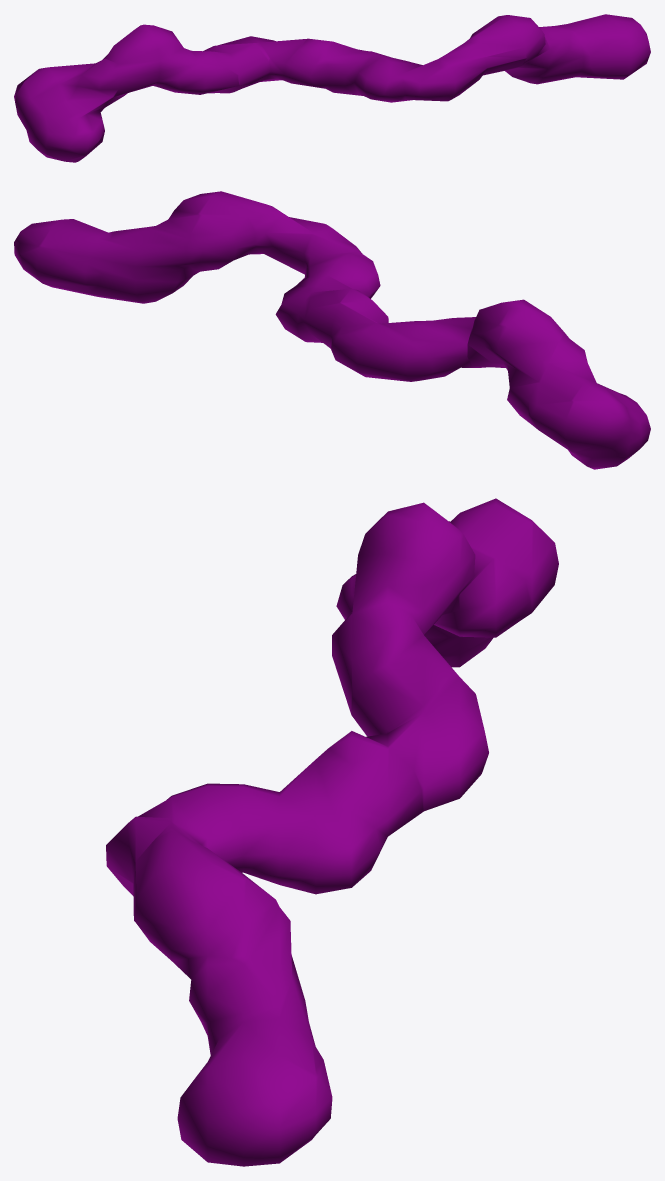
The model's file is Vesicle_64AAAligned16.fbx.
The picture shows the model from 3 angles, top to bottom: view 1: azimuth 30°, elevation 25°; view 2: azimuth 150°, elevation 25°; view 3: azimuth 270°, elevation 25°; orthographic projection. The views are drawn at different scales.
Visible parts, largest first — view 1: vesicle_MeshVes64Mesh; view 2: vesicle_MeshVes64Mesh; view 3: vesicle_MeshVes64Mesh.
Part boxes in pixels (bbox=[...]): vesicle_MeshVes64Mesh: bbox=[14, 14, 650, 162]; vesicle_MeshVes64Mesh: bbox=[14, 191, 650, 469]; vesicle_MeshVes64Mesh: bbox=[106, 498, 558, 1166].
Bounding box in the file's own units: 203 × 40.98 × 69.95.
